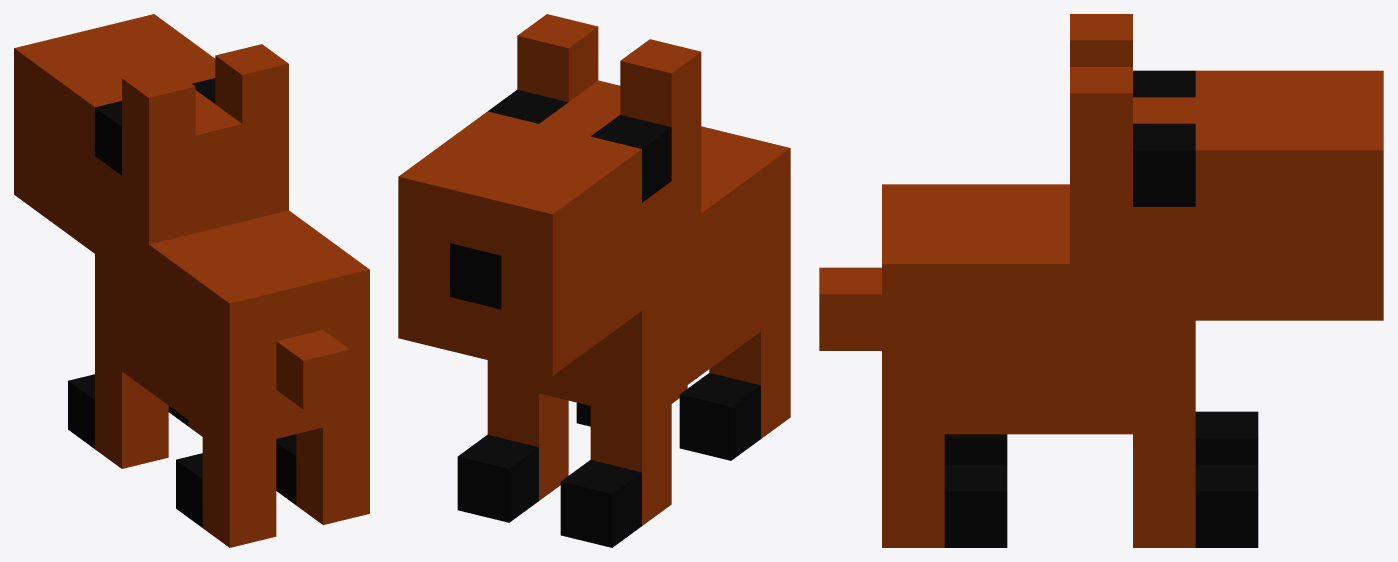
Rendered from capivara.obj.
The picture shows the model from 3 angles, left to right: view 1: azimuth 30°, elevation 25°; view 2: azimuth 150°, elevation 25°; view 3: azimuth 270°, elevation 25°; orthographic projection. The views are drawn at different scales.
Bounding box in the file's own units: 0.3 × 0.8 × 0.9.
